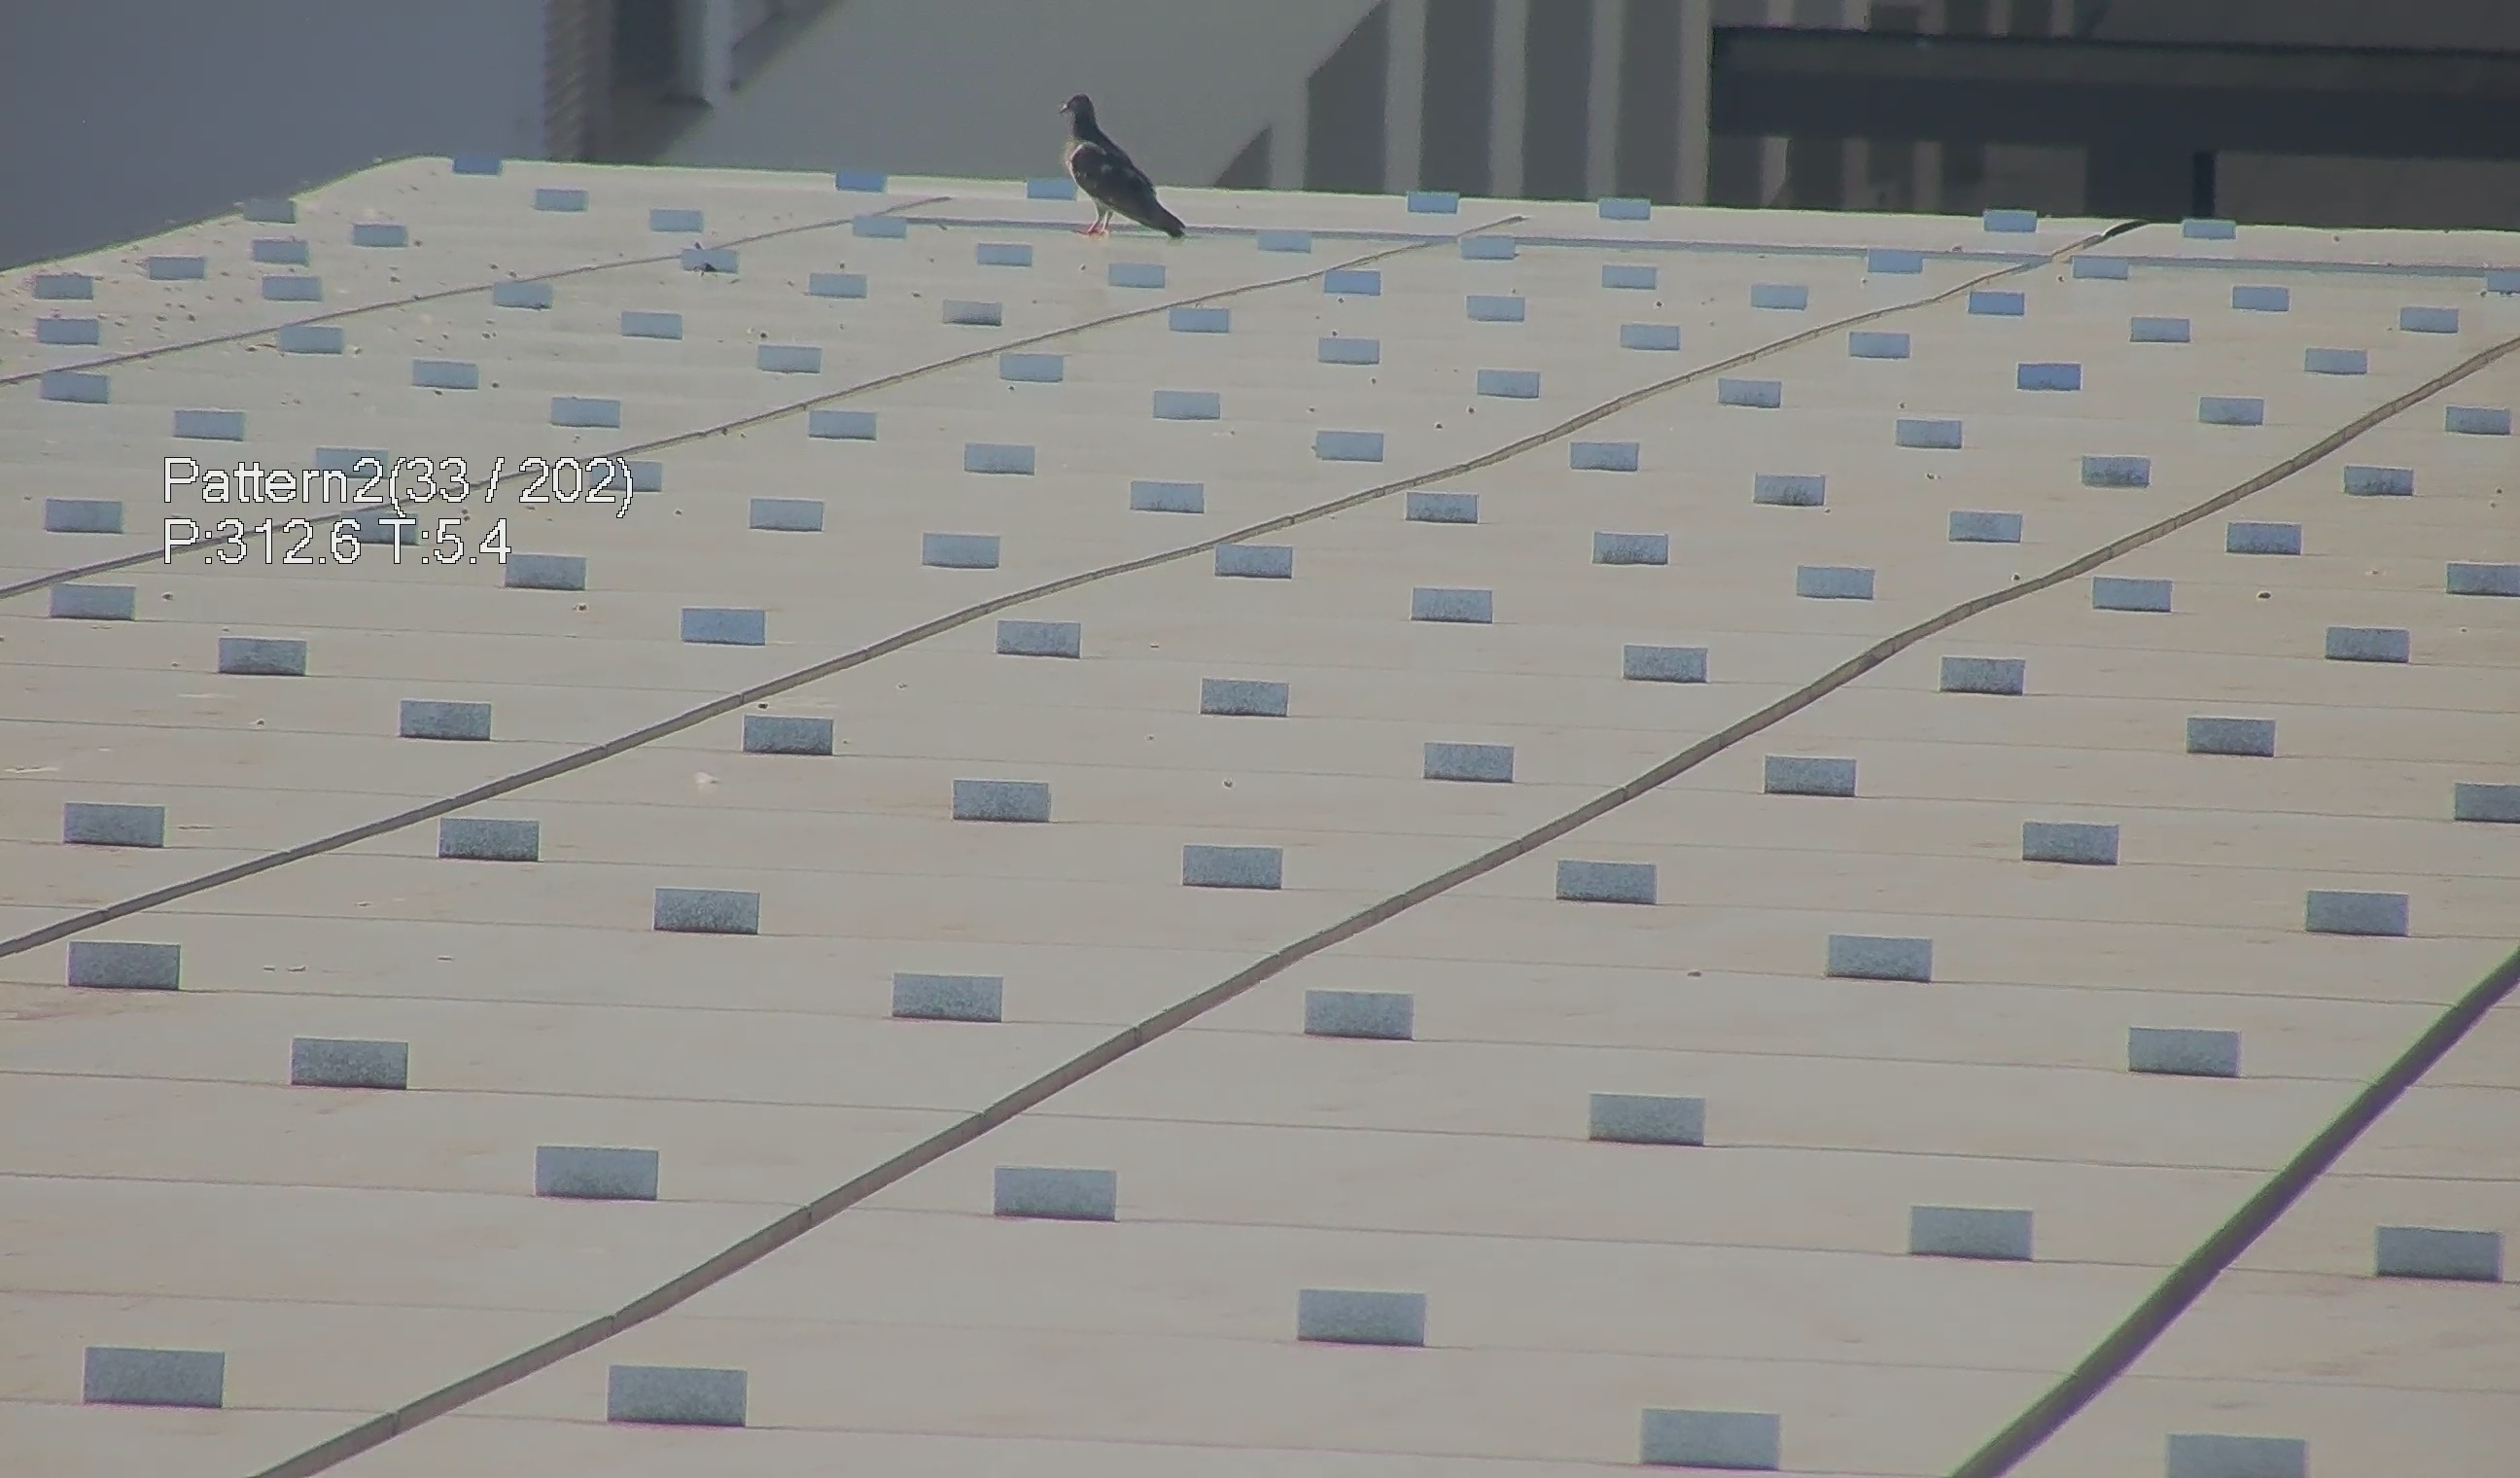Pigeon: (1043, 84, 1192, 243)
